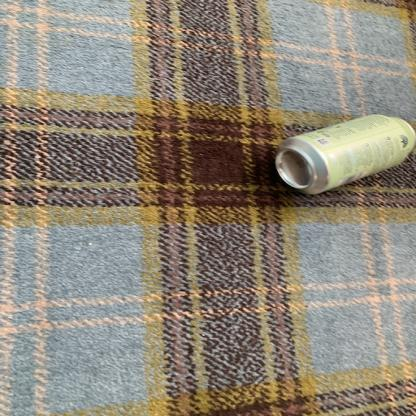trash: (270, 111, 416, 197)
